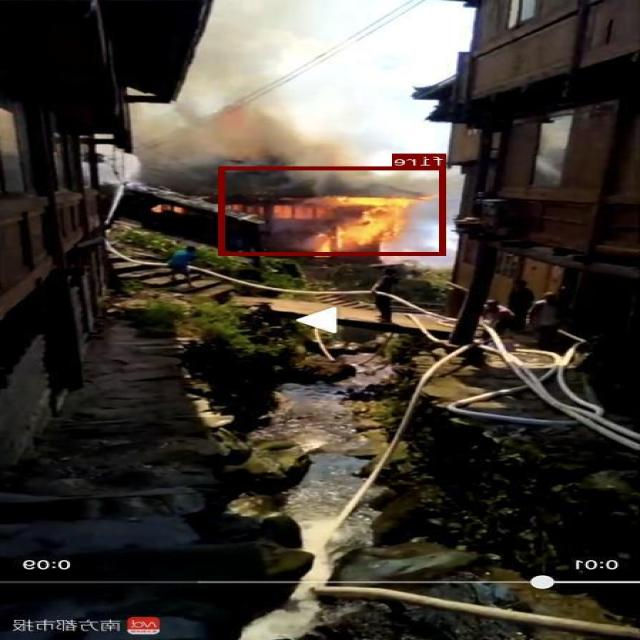fire: (220, 166, 448, 254)
